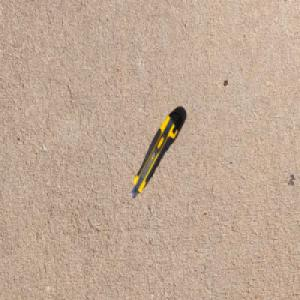Cutter: (130, 109, 182, 198)
